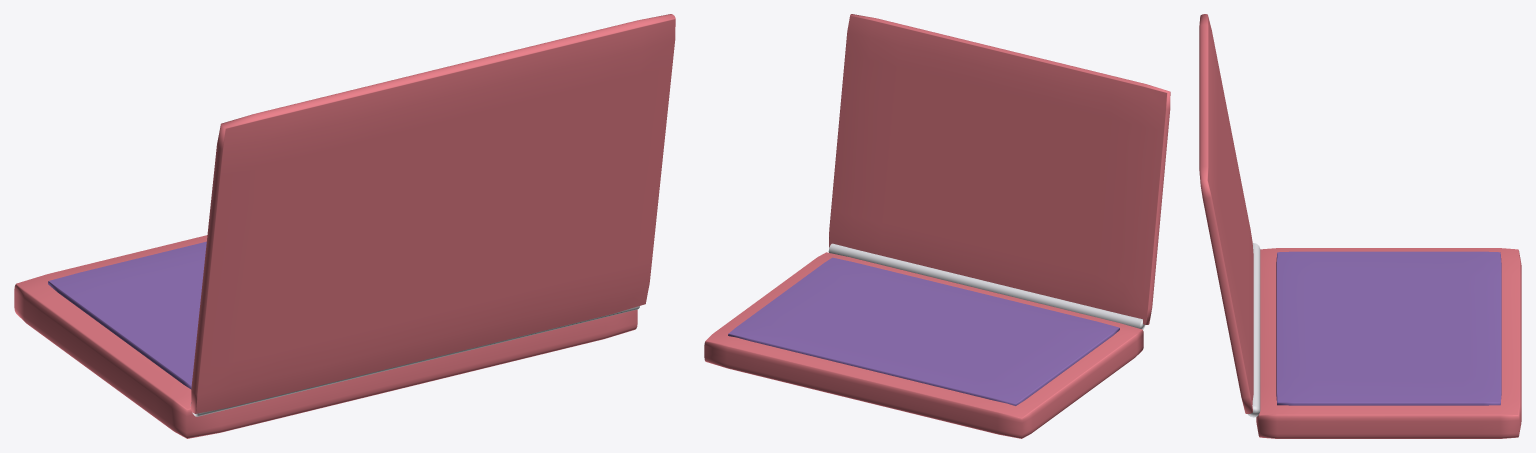
The model's file is StampOutInkPad.glb.
The picture shows the model from 3 angles, left to right: view 1: azimuth 30°, elevation 25°; view 2: azimuth 150°, elevation 25°; view 3: azimuth 270°, elevation 25°; orthographic projection. The views are drawn at different scales.
Visible parts, largest first — view 1: Lid, Tin, Felt, Hinge; view 2: Lid, Felt, Tin, Hinge; view 3: Felt, Tin, Lid, Hinge.
Part boxes in pixels (left/top/right/bottom): Lid: left=191, top=14, right=675, bottom=413; Tin: left=14, top=235, right=637, bottom=438; Felt: left=48, top=241, right=206, bottom=389; Hinge: left=190, top=306, right=639, bottom=416; Lid: left=829, top=14, right=1170, bottom=324; Felt: left=728, top=257, right=1119, bottom=405; Tin: left=704, top=252, right=1143, bottom=438; Hinge: left=828, top=243, right=1145, bottom=329; Felt: left=1276, top=251, right=1501, bottom=405; Tin: left=1256, top=248, right=1521, bottom=438; Lid: left=1199, top=14, right=1253, bottom=413; Hinge: left=1247, top=243, right=1260, bottom=417.
Bounding box in the file's own units: 30 × 21.81 × 24.29.
